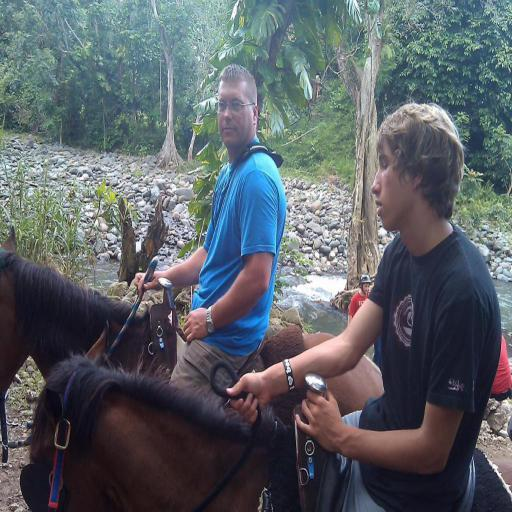horse: (27, 330, 512, 510), (0, 226, 386, 417)
